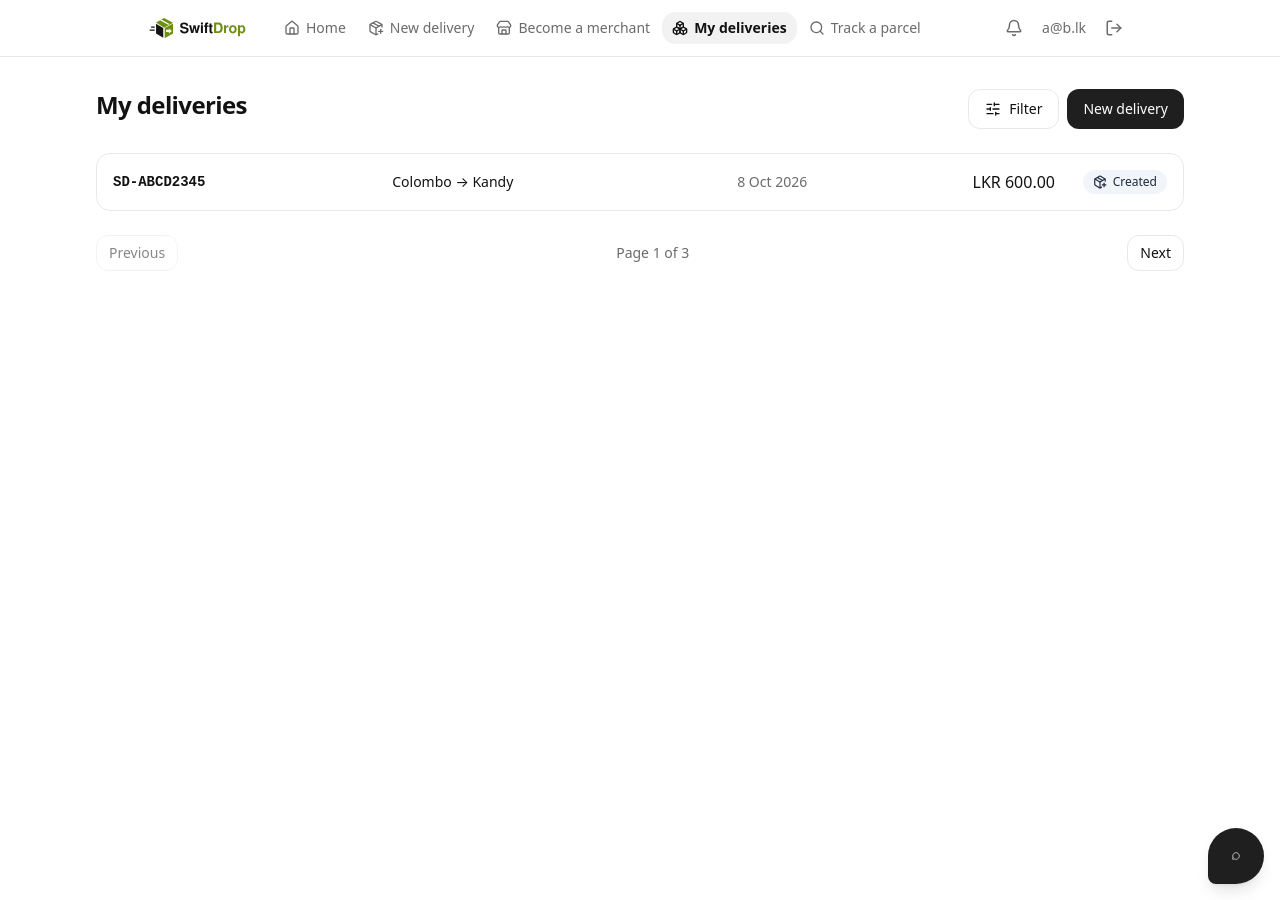
Test: deliveries list › paginates through the URL
Expected: the text "Page 1 of 3" is shown, [616,243,689,263]
Click the button "Next".
click(1156, 253)  # box [1127,235,1184,271]
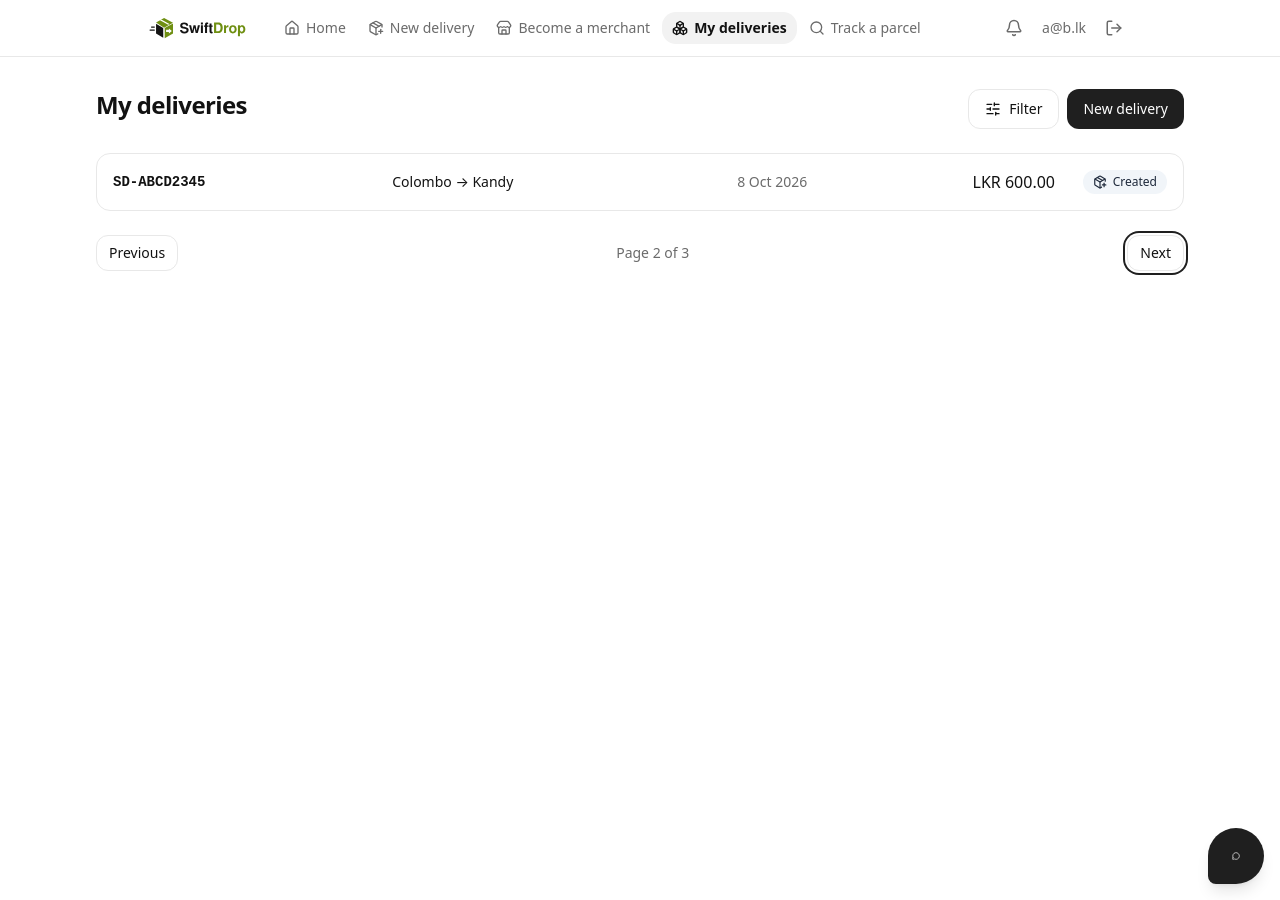
Now the text "Page 2 of 3" is shown, box [616,243,689,263]
